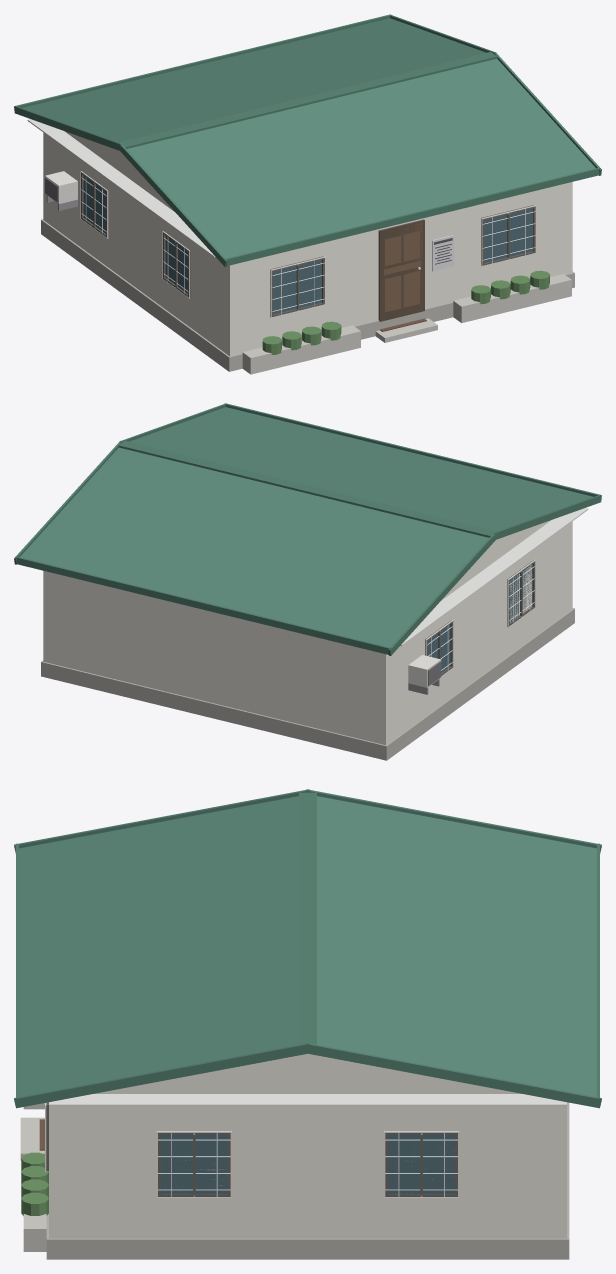
Rendered from mushroom_laboratory.glb.
The picture shows the model from 3 angles, top to bottom: view 1: azimuth 30°, elevation 25°; view 2: azimuth 150°, elevation 25°; view 3: azimuth 270°, elevation 25°; orthographic projection. The views are drawn at different scales.
Parts seen in each view (by area): view 1: ML_Batch_ML_RoofTeal, ML_Batch_ML_WallCream, ML_Batch_ML_FasciaTeal, ML_Batch_ML_GlassTinted, ML_Batch_ML_ConcreteSteps, ML_Batch_ML_PlinthGrey, ML_Batch_ML_SoffitWhite, ML_Batch_ML_ShrubGreen, ML_Batch_ML_WinFrame, ML_Batch_ML_GrilleWhite, ML_Batch_ML_DoorPanel, ML_Batch_ML_DoorFrame (+3 smaller); view 2: ML_Batch_ML_RoofTeal, ML_Batch_ML_WallCream, ML_Batch_ML_FasciaTeal, ML_Batch_ML_PlinthGrey, ML_Batch_ML_SoffitWhite, ML_Batch_ML_GlassTinted, ML_Batch_ML_WinFrame, ML_Batch_ML_GrilleWhite, ML_Batch_ML_ACCasing; view 3: ML_Batch_ML_RoofTeal, ML_Batch_ML_WallCream, ML_Batch_ML_FasciaTeal, ML_Batch_ML_PlinthGrey, ML_Batch_ML_GlassTinted, ML_Batch_ML_SoffitWhite, ML_Batch_ML_GrilleWhite, ML_Batch_ML_WinFrame, ML_Batch_ML_ConcreteSteps, ML_Batch_ML_ShrubGreen.
Part boxes in pixels (left/top/right/bottom): ML_Batch_ML_RoofTeal: left=22, top=18, right=595, bottom=258; ML_Batch_ML_WallCream: left=43, top=131, right=572, bottom=356; ML_Batch_ML_FasciaTeal: left=14, top=14, right=601, bottom=267; ML_Batch_ML_GlassTinted: left=83, top=176, right=532, bottom=314; ML_Batch_ML_ConcreteSteps: left=242, top=274, right=571, bottom=374; ML_Batch_ML_PlinthGrey: left=41, top=219, right=574, bottom=371; ML_Batch_ML_SoffitWhite: left=27, top=119, right=215, bottom=257; ML_Batch_ML_ShrubGreen: left=262, top=270, right=549, bottom=354; ML_Batch_ML_WinFrame: left=81, top=171, right=535, bottom=316; ML_Batch_ML_GrilleWhite: left=80, top=171, right=536, bottom=318; ML_Batch_ML_DoorPanel: left=384, top=231, right=420, bottom=312; ML_Batch_ML_DoorFrame: left=378, top=219, right=424, bottom=321; ML_Batch_ML_RoofTeal: left=20, top=407, right=593, bottom=647; ML_Batch_ML_WallCream: left=43, top=520, right=572, bottom=745; ML_Batch_ML_FasciaTeal: left=14, top=403, right=601, bottom=655; ML_Batch_ML_PlinthGrey: left=41, top=608, right=574, bottom=760; ML_Batch_ML_SoffitWhite: left=400, top=508, right=588, bottom=646; ML_Batch_ML_GlassTinted: left=428, top=565, right=532, bottom=672; ML_Batch_ML_WinFrame: left=425, top=560, right=534, bottom=675; ML_Batch_ML_GrilleWhite: left=426, top=560, right=535, bottom=676; ML_Batch_ML_ACCasing: left=408, top=655, right=441, bottom=687; ML_Batch_ML_RoofTeal: left=19, top=796, right=596, bottom=1096; ML_Batch_ML_WallCream: left=49, top=1054, right=566, bottom=1238; ML_Batch_ML_FasciaTeal: left=14, top=789, right=601, bottom=1108; ML_Batch_ML_PlinthGrey: left=46, top=1102, right=569, bottom=1259; ML_Batch_ML_GlassTinted: left=161, top=1134, right=454, bottom=1194; ML_Batch_ML_SoffitWhite: left=49, top=1094, right=566, bottom=1106; ML_Batch_ML_GrilleWhite: left=45, top=1103, right=459, bottom=1198; ML_Batch_ML_WinFrame: left=46, top=1102, right=457, bottom=1197; ML_Batch_ML_ConcreteSteps: left=20, top=1103, right=46, bottom=1251; ML_Batch_ML_ShrubGreen: left=21, top=1152, right=48, bottom=1215.
Bounding box in the file's own units: 9.65 × 3.95 × 9.31.
